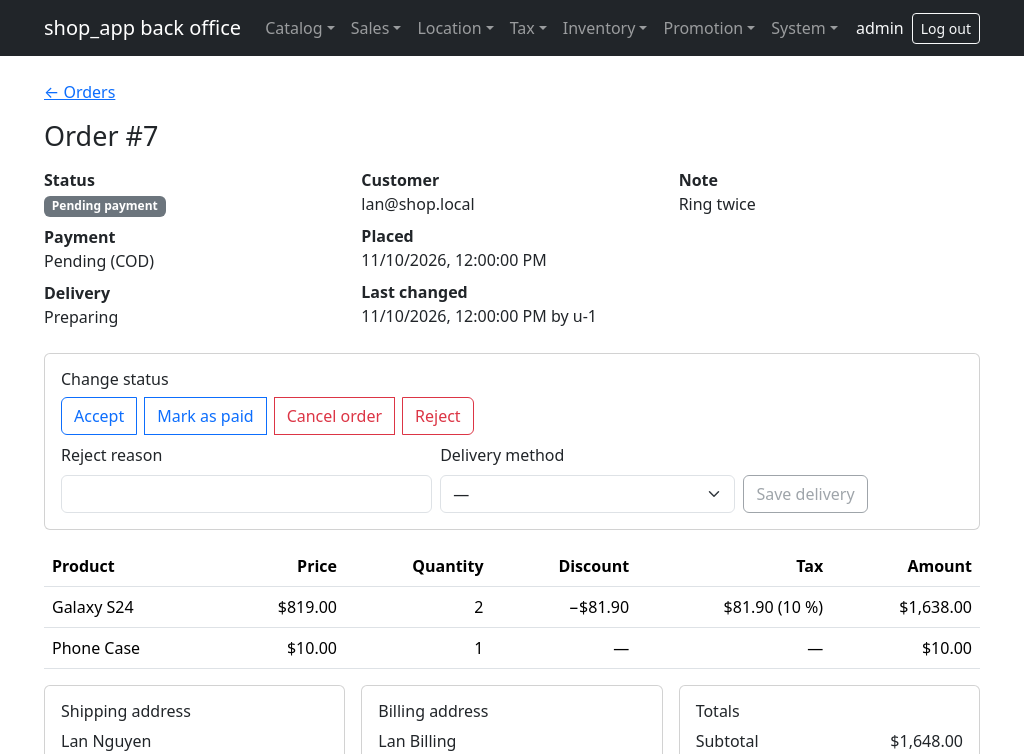
Test case: Order detail page › moves the order and shows the answer
Click the button "Mark as paid" at point(205, 416), box left=144, top=397, right=267, bottom=435
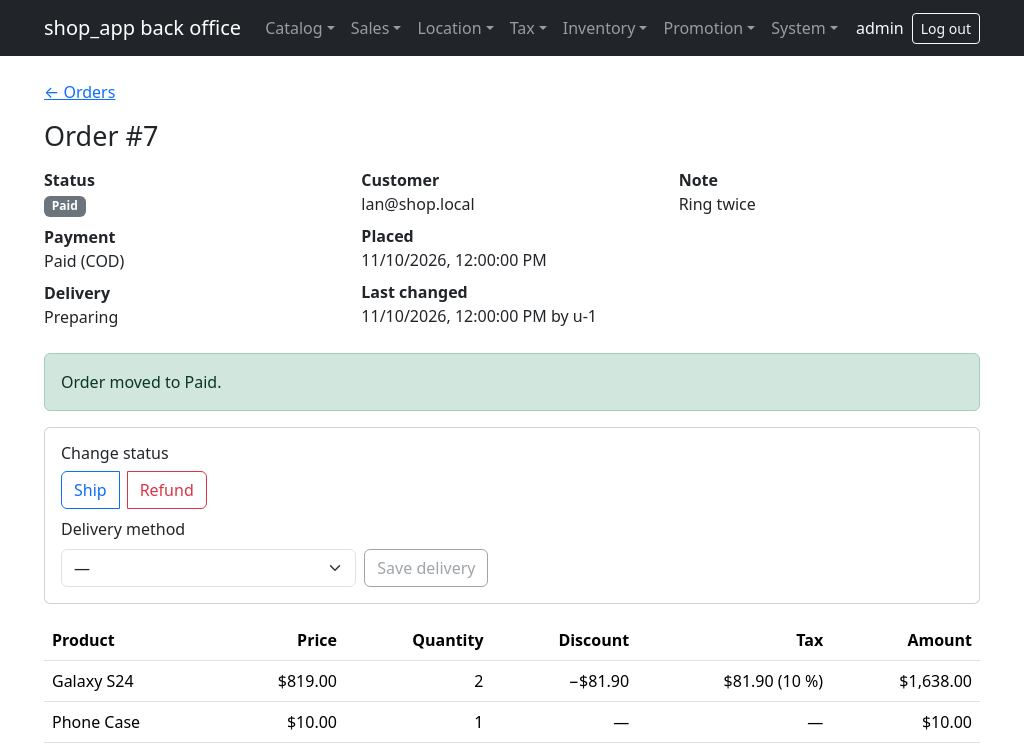
Now the text "Order moved to Paid." is shown, box left=44, top=352, right=980, bottom=410
Now the button "Ship" is shown, box left=61, top=471, right=120, bottom=509
